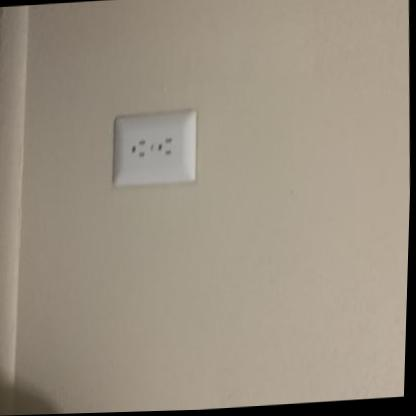OUTLET: (111, 109, 200, 189)
